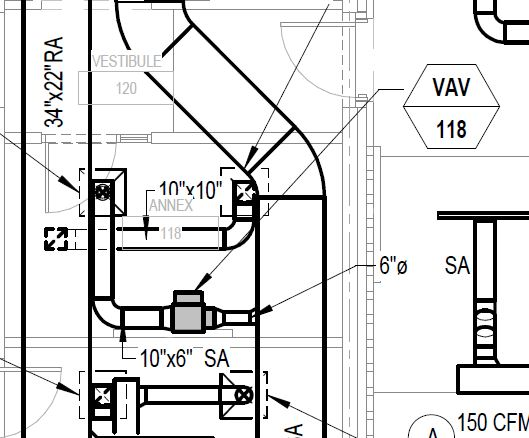VAV: (163, 282, 227, 341)
